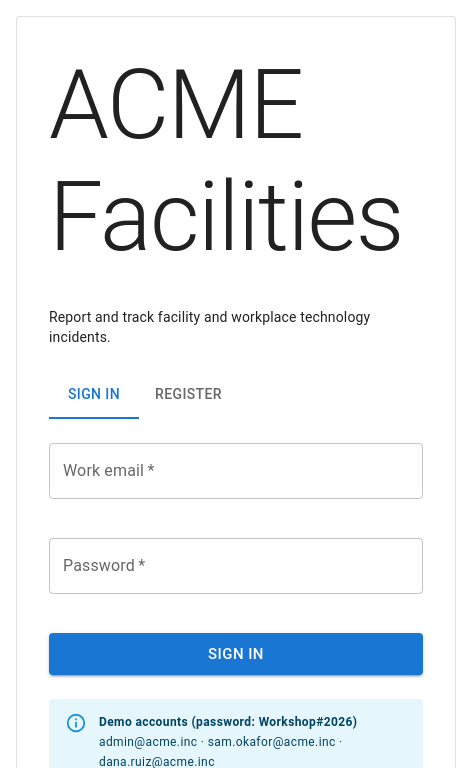
Test: signing in › shows the server message when the credentials are wrong
The image size is (473, 768).
Type "admin@acme.inc" into the field labelled "Work email *" at (236, 471), box left=49, top=443, right=423, bottom=499
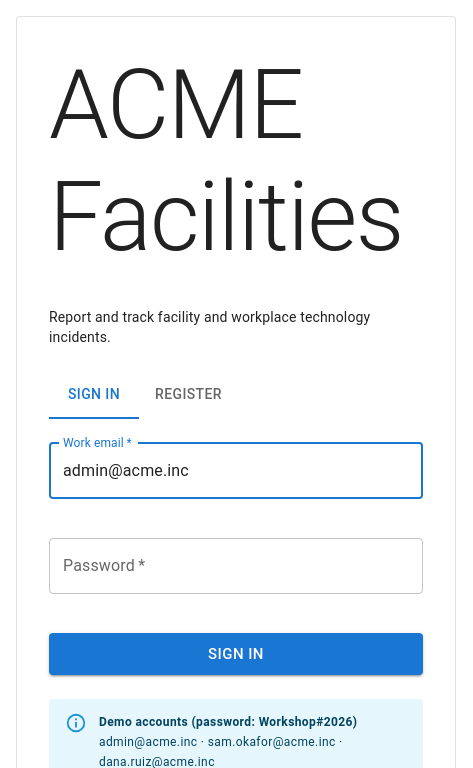
Type "wrong" into the password field labelled "Password *" at (236, 566), box left=49, top=538, right=423, bottom=594
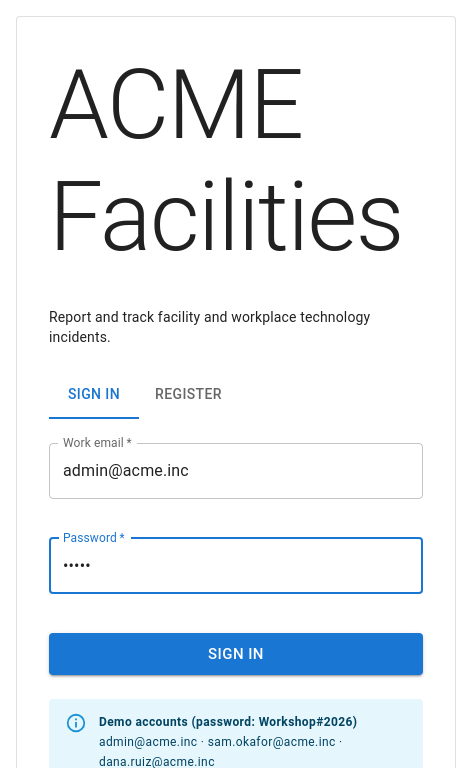
Click the button "Sign in" at (236, 654), box left=49, top=632, right=423, bottom=675
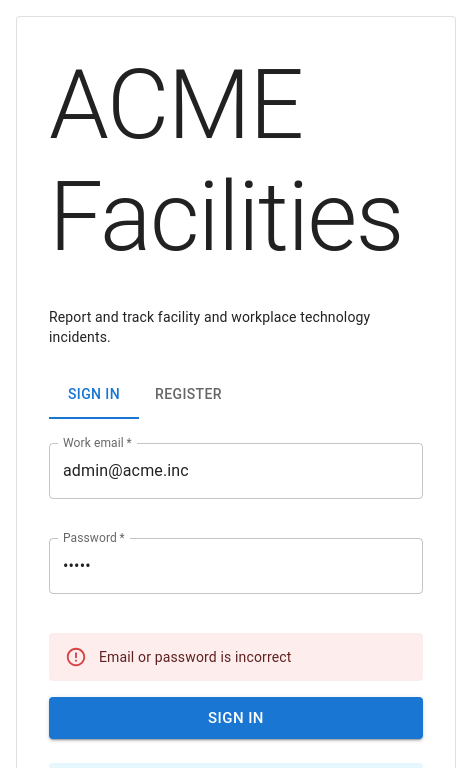
Now the text "Email or password is incorrect" is shown, box left=99, top=648, right=292, bottom=664
